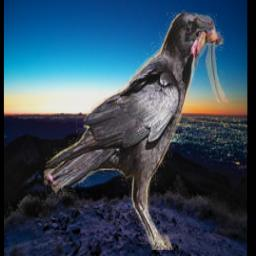Crow: (45, 4, 234, 251)
